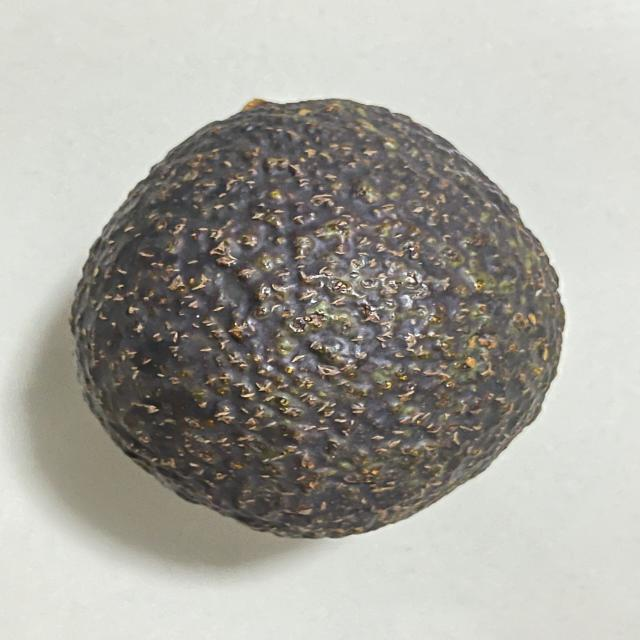Level2: (63, 86, 574, 544)
